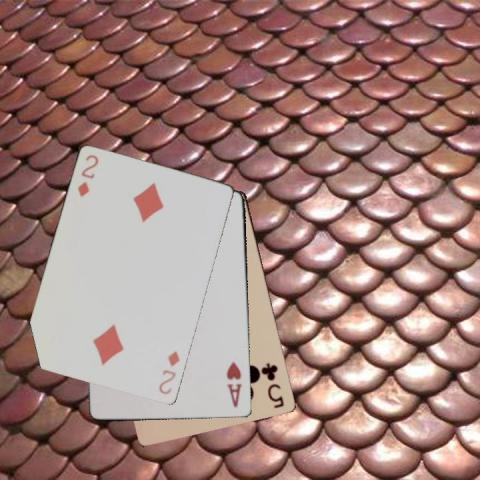2d: (155, 348, 182, 397), (75, 152, 100, 199)
5c: (260, 360, 286, 410)
Ah: (224, 360, 244, 410)
